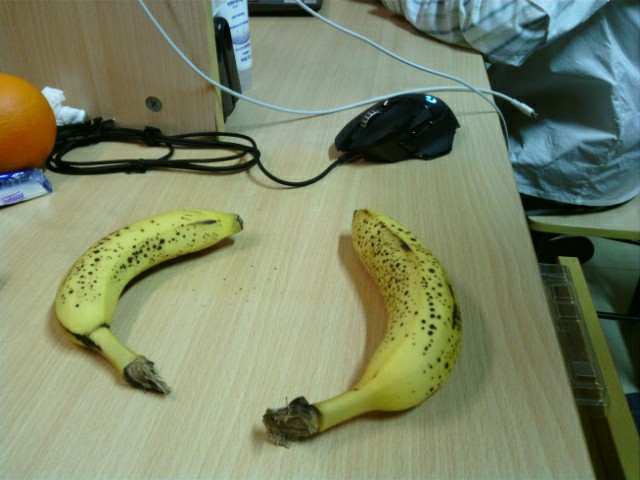normal_banana: (260, 208, 463, 445), (52, 210, 245, 397)
